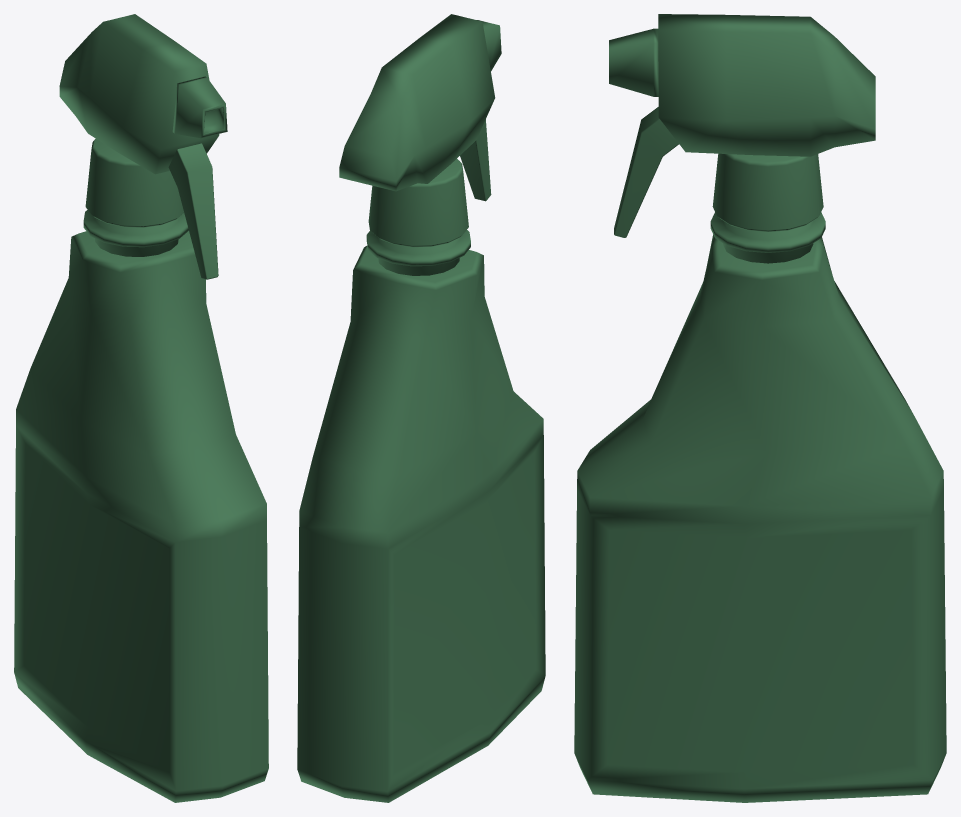
The model's file is Household_Products_05.fbx.
The picture shows the model from 3 angles, left to right: view 1: azimuth 30°, elevation 25°; view 2: azimuth 150°, elevation 25°; view 3: azimuth 270°, elevation 25°; orthographic projection. The views are drawn at different scales.
Visible parts, largest first — view 1: Household_Products_05; view 2: Household_Products_05; view 3: Household_Products_05.
Part boxes in pixels (x1=…): Household_Products_05: x1=14, y1=14, x2=268, y2=802; Household_Products_05: x1=297, y1=14, x2=545, y2=802; Household_Products_05: x1=574, y1=14, x2=946, y2=802.
Size of the model in its own units: 9.29 by 49.25 by 22.18.
